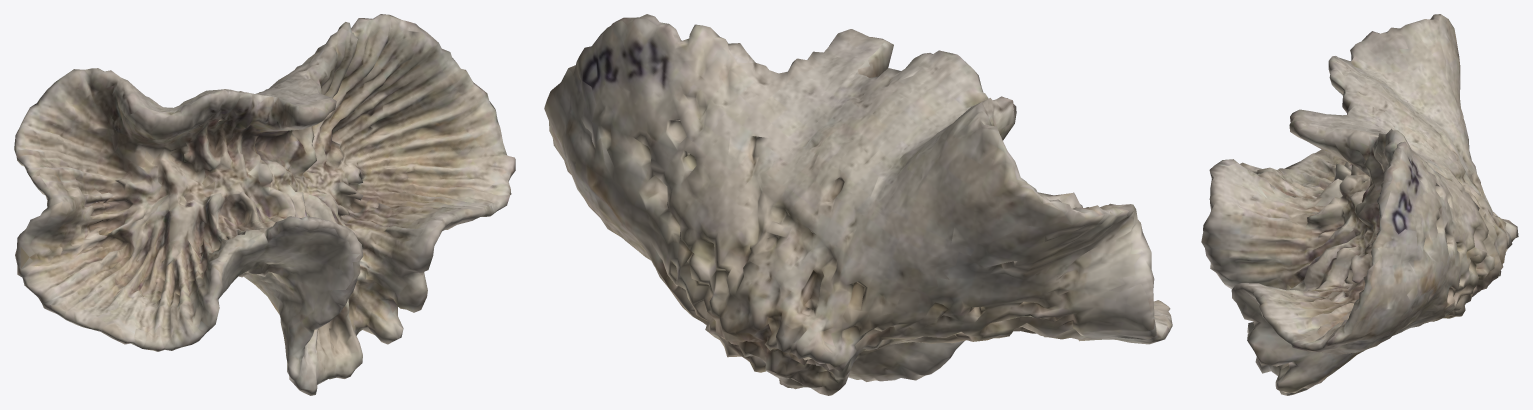
The model's file is brain_rose.glb.
3 renders of one model, left to right at view 1: azimuth 30°, elevation 25°; view 2: azimuth 150°, elevation 25°; view 3: azimuth 270°, elevation 25°, orthographic. The views are drawn at different scales.
Parts seen in each view (by area): view 1: prop; view 2: prop; view 3: prop.
Boxes of the visible parts, box(x1,y1,x2,y2) form: prop: box(14, 14, 515, 395); prop: box(544, 14, 1172, 395); prop: box(1201, 14, 1518, 395).
Bounding box in the file's own units: 1 × 0.5983 × 0.5883.
1 material, 1 textured.
